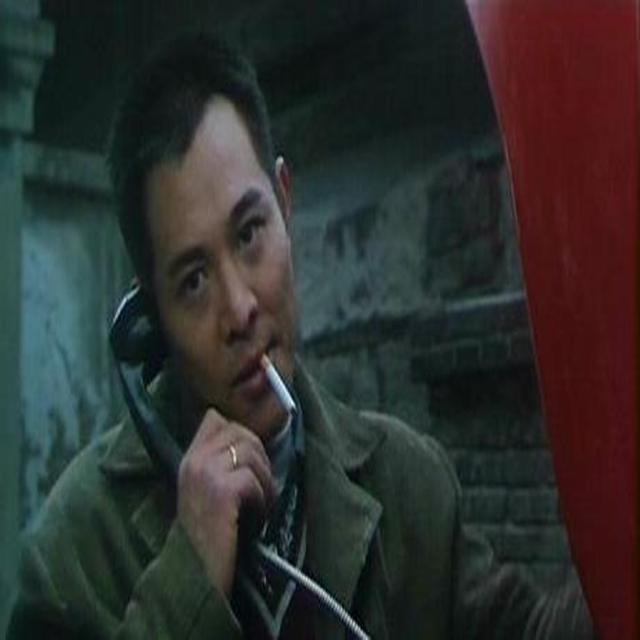smoking: (119, 48, 308, 432)
